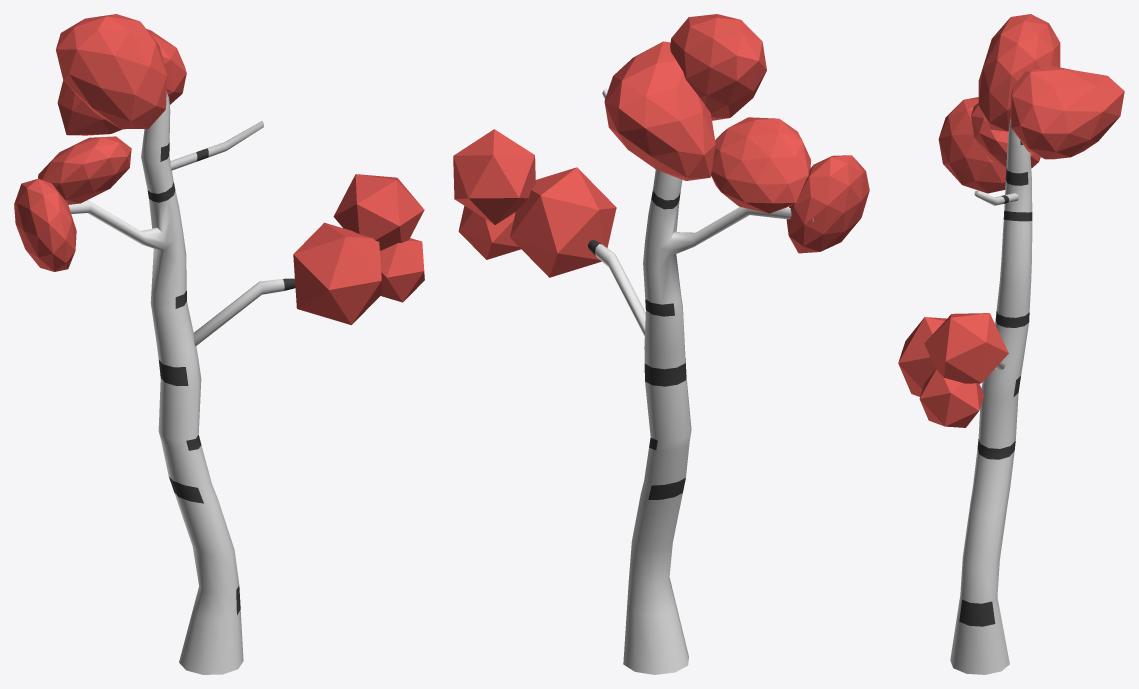
File: BirchTree2_SM.fbx
The picture shows the model from 3 angles, left to right: view 1: azimuth 30°, elevation 25°; view 2: azimuth 150°, elevation 25°; view 3: azimuth 270°, elevation 25°; orthographic projection. The views are drawn at different scales.
Visible parts, largest first — view 1: BirchTree2_SM; view 2: BirchTree2_SM; view 3: BirchTree2_SM.
Part boxes in pixels (<box>): BirchTree2_SM: <box>14,14,424,674</box>; BirchTree2_SM: <box>453,14,869,674</box>; BirchTree2_SM: <box>898,14,1124,674</box>.
Size of the model in its own units: 182 by 292 by 99.28.
